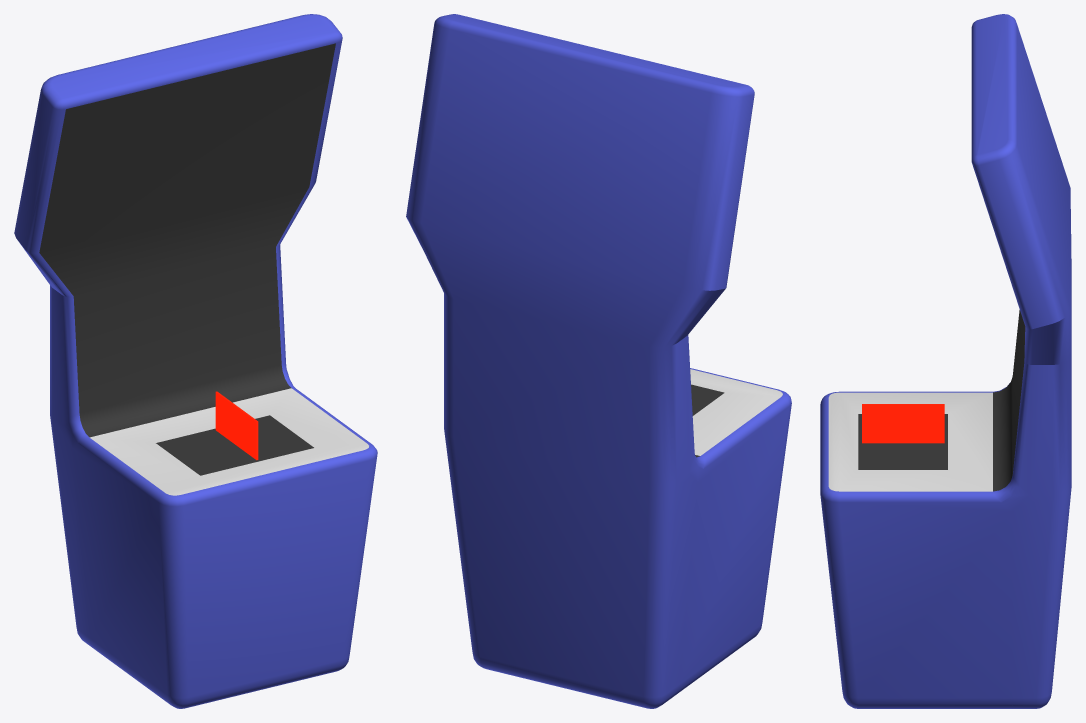
Rendered from scanner.glb.
3 renders of one model, left to right at view 1: azimuth 30°, elevation 25°; view 2: azimuth 150°, elevation 25°; view 3: azimuth 270°, elevation 25°, orthographic. The views are drawn at different scales.
Parts seen in each view (by area): view 1: Scanner, ScannerLaser; view 2: Scanner; view 3: Scanner, ScannerLaser.
Boxes of the visible parts, <box> form: Scanner: <box>14,14,377,708</box>; ScannerLaser: <box>215,391,258,460</box>; Scanner: <box>406,14,791,708</box>; Scanner: <box>820,14,1071,708</box>; ScannerLaser: <box>862,404,944,443</box>.
Size of the model in its own units: 1.36 by 2.63 by 1.02.
